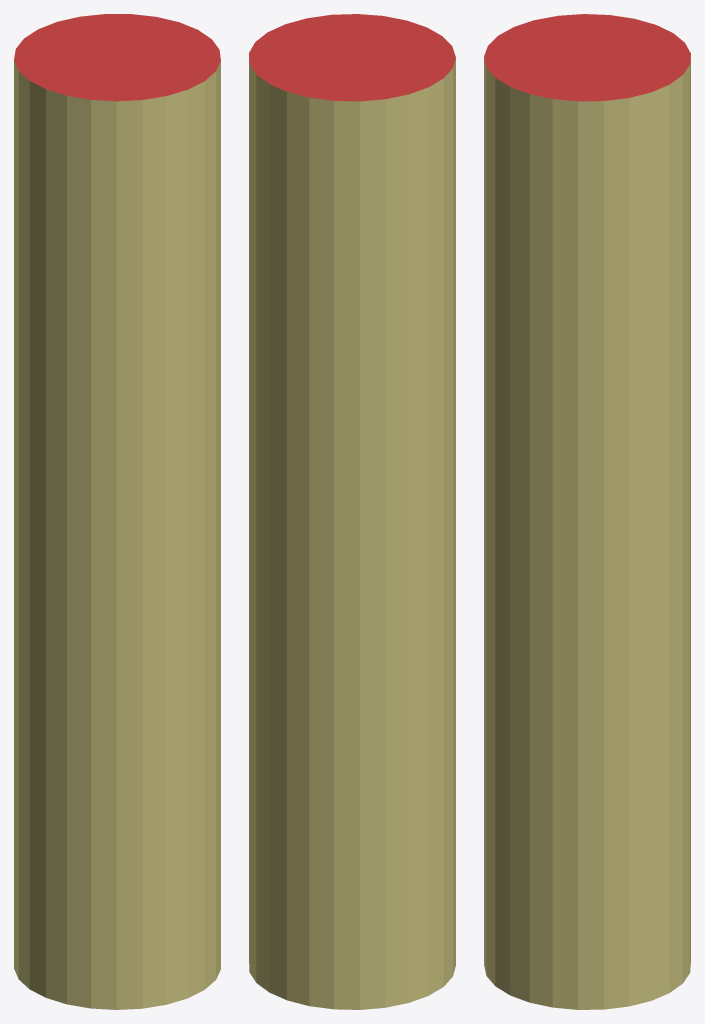
3 renders of one model, left to right at view 1: azimuth 30°, elevation 25°; view 2: azimuth 150°, elevation 25°; view 3: azimuth 270°, elevation 25°, orthographic.
Size of the model in its own units: 2.08 by 2.08 by 10.07.
